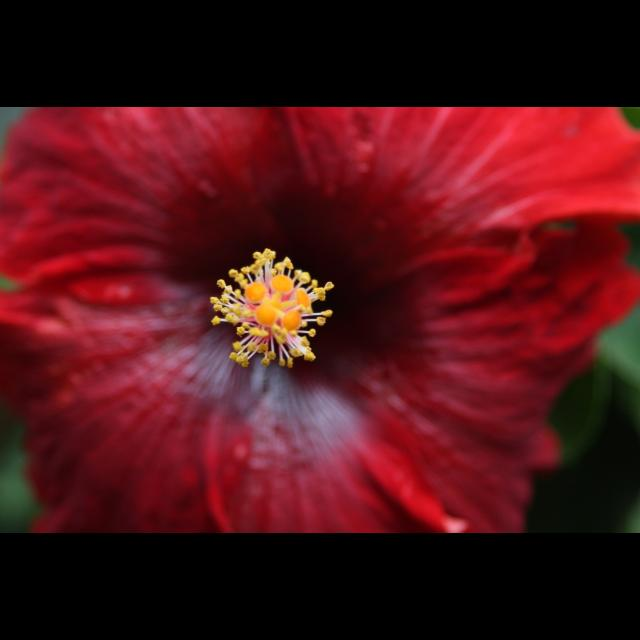Flower: (5, 123, 612, 509)
